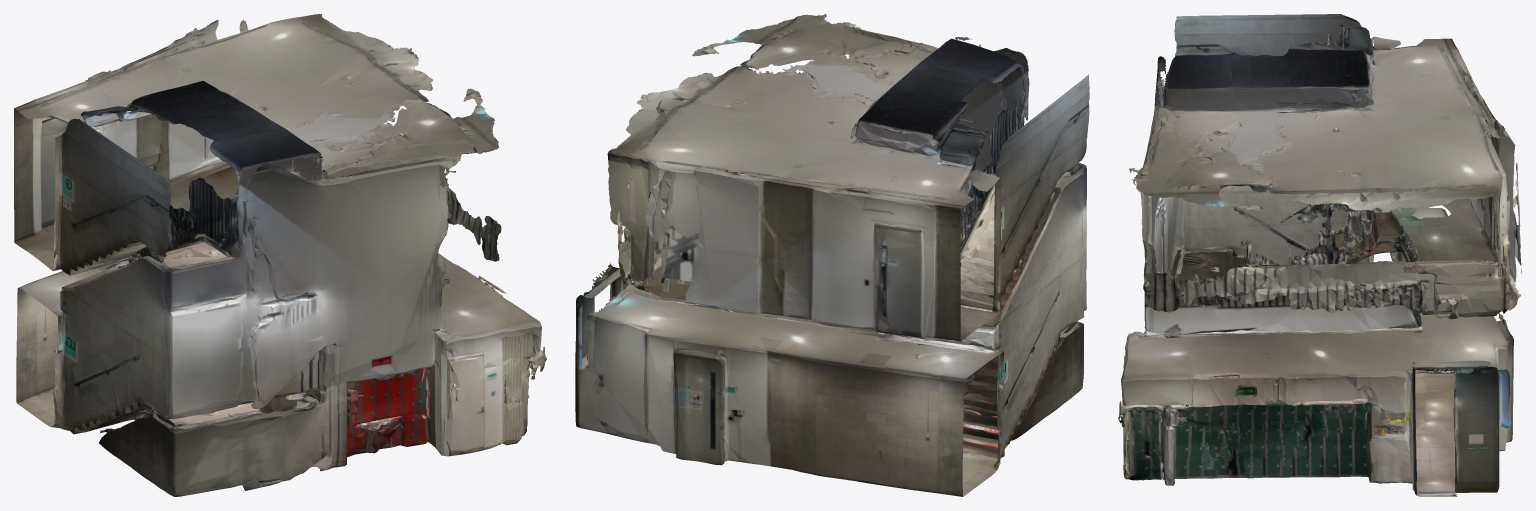
File: G_main_stairs_LOW_POLY.fbx
3 views of the same model, side by side, from view 1: azimuth 30°, elevation 25°; view 2: azimuth 150°, elevation 25°; view 3: azimuth 270°, elevation 25° (orthographic). The views are drawn at different scales.
Parts seen in each view (by area): view 1: G_main_stairs_LOW_POLY; view 2: G_main_stairs_LOW_POLY; view 3: G_main_stairs_LOW_POLY.
Boxes of the visible parts, x1=… form: G_main_stairs_LOW_POLY: x1=14, y1=14, x2=546, y2=496; G_main_stairs_LOW_POLY: x1=575, y1=14, x2=1089, y2=496; G_main_stairs_LOW_POLY: x1=1118, y1=14, x2=1521, y2=496.
Bounding box in the file's own units: 879 × 734 × 851.
1 material, 1 textured.
